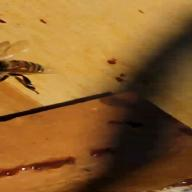Bee: (0, 44, 58, 96)
